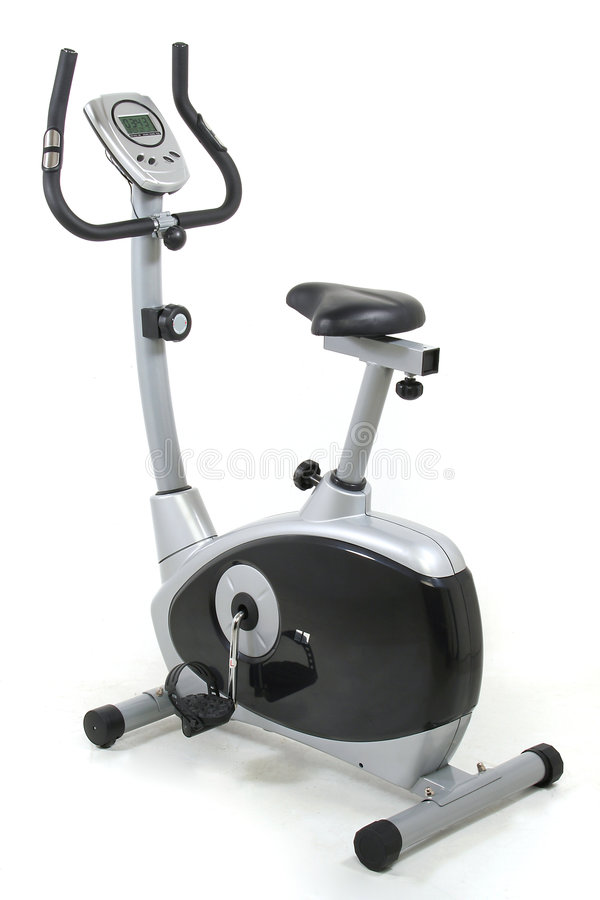gym_bike: (29, 42, 590, 864)
